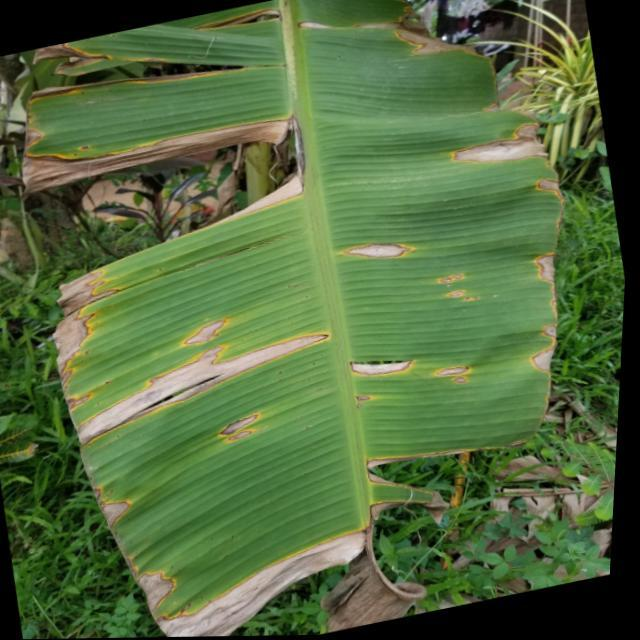Early_rust: (7, 7, 569, 640)
